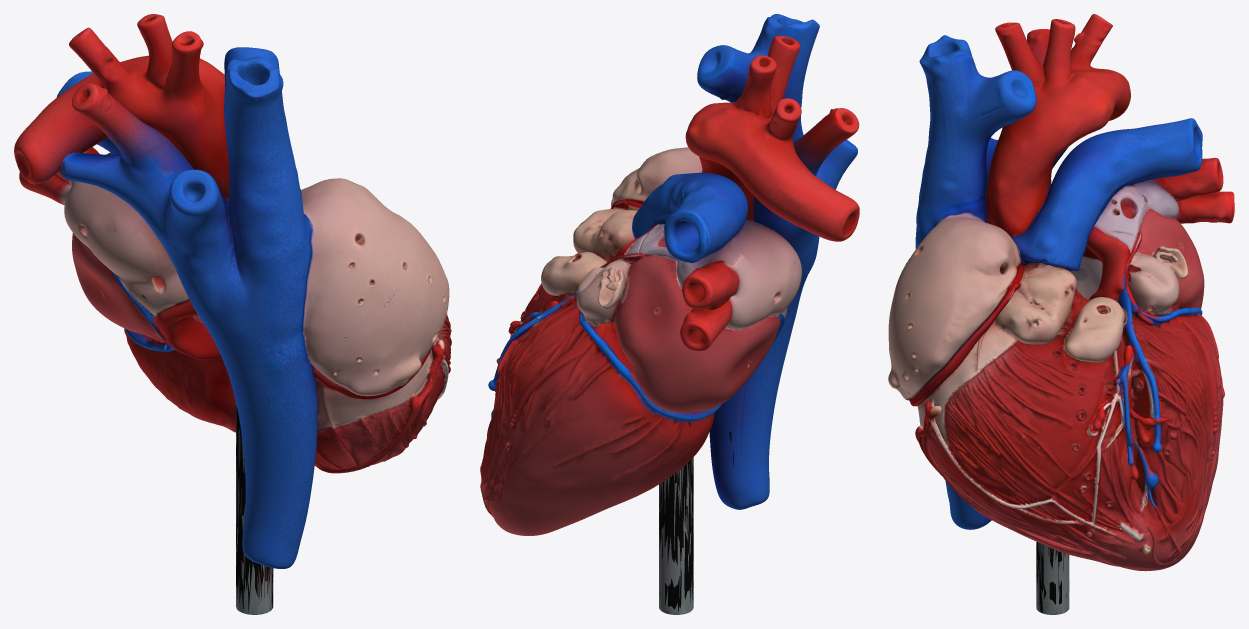
Rendered from heart.glb.
3 views of the same model, side by side, from view 1: azimuth 30°, elevation 25°; view 2: azimuth 150°, elevation 25°; view 3: azimuth 270°, elevation 25° (orthographic). The views are drawn at different scales.
Parts seen in each view (by area): view 1: tripo_part_7, tripo_part_4, tripo_part_5, tripo_part_1, tripo_part_8, tripo_part_0, tripo_part_13, tripo_part_2, tripo_part_15, tripo_part_11, tripo_part_10, tripo_part_12 (+1 smaller); view 2: tripo_part_0, tripo_part_2, tripo_part_1, tripo_part_3, tripo_part_8, tripo_part_11, tripo_part_9, tripo_part_4, tripo_part_15, tripo_part_5, tripo_part_6, tripo_part_7 (+4 smaller); view 3: tripo_part_0, tripo_part_3, tripo_part_1, tripo_part_7, tripo_part_5, tripo_part_9, tripo_part_2, tripo_part_6, tripo_part_14, tripo_part_11, tripo_part_15, tripo_part_10 (+4 smaller).
Boxes of the visible parts, x1=… form: tripo_part_7: x1=301, y1=178, x2=449, y2=396; tripo_part_4: x1=61, y1=83, x2=287, y2=380; tripo_part_5: x1=224, y1=47, x2=312, y2=365; tripo_part_1: x1=14, y1=14, x2=229, y2=201; tripo_part_8: x1=226, y1=353, x2=317, y2=568; tripo_part_0: x1=124, y1=303, x2=451, y2=470; tripo_part_13: x1=90, y1=215, x2=190, y2=350; tripo_part_2: x1=72, y1=233, x2=201, y2=350; tripo_part_15: x1=236, y1=403, x2=273, y2=614; tripo_part_11: x1=54, y1=147, x2=139, y2=251; tripo_part_10: x1=316, y1=339, x2=448, y2=473; tripo_part_12: x1=19, y1=172, x2=71, y2=205; tripo_part_0: x1=489, y1=253, x2=714, y2=535; tripo_part_2: x1=576, y1=224, x2=781, y2=413; tripo_part_1: x1=685, y1=36, x2=859, y2=241; tripo_part_3: x1=480, y1=300, x2=638, y2=516; tripo_part_8: x1=709, y1=316, x2=795, y2=509; tripo_part_11: x1=675, y1=219, x2=791, y2=329; tripo_part_9: x1=632, y1=172, x2=748, y2=262; tripo_part_4: x1=752, y1=108, x2=859, y2=324; tripo_part_15: x1=659, y1=457, x2=693, y2=614; tripo_part_5: x1=697, y1=14, x2=819, y2=142; tripo_part_6: x1=488, y1=252, x2=607, y2=418; tripo_part_7: x1=611, y1=147, x2=702, y2=206; tripo_part_0: x1=917, y1=290, x2=1221, y2=571; tripo_part_3: x1=1125, y1=281, x2=1224, y2=564; tripo_part_1: x1=986, y1=14, x2=1130, y2=236; tripo_part_7: x1=888, y1=216, x2=1025, y2=400; tripo_part_5: x1=915, y1=35, x2=1036, y2=248; tripo_part_9: x1=1011, y1=118, x2=1202, y2=271; tripo_part_2: x1=1070, y1=184, x2=1204, y2=315; tripo_part_6: x1=1064, y1=289, x2=1169, y2=520; tripo_part_14: x1=977, y1=262, x2=1080, y2=366; tripo_part_11: x1=1132, y1=157, x2=1223, y2=219; tripo_part_15: x1=1036, y1=541, x2=1069, y2=614; tripo_part_10: x1=915, y1=400, x2=1100, y2=526.
Bounding box in the file's own units: 0.6445 × 1 × 0.5741.
21 materials, 21 textured.
